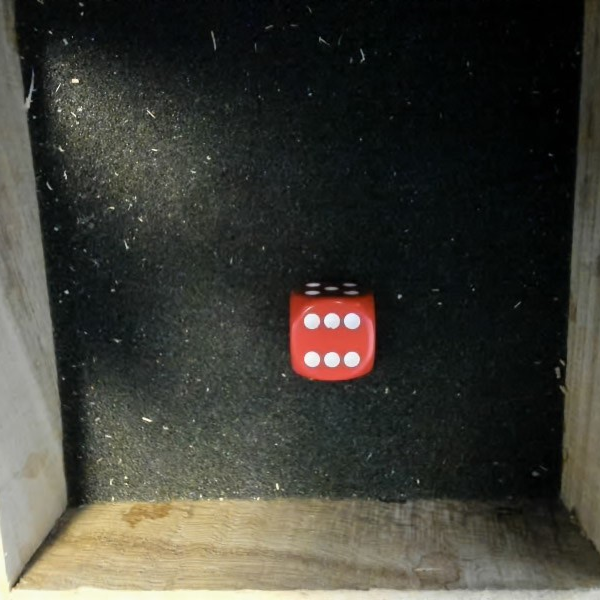red_die_pip6: (289, 277, 373, 379)
